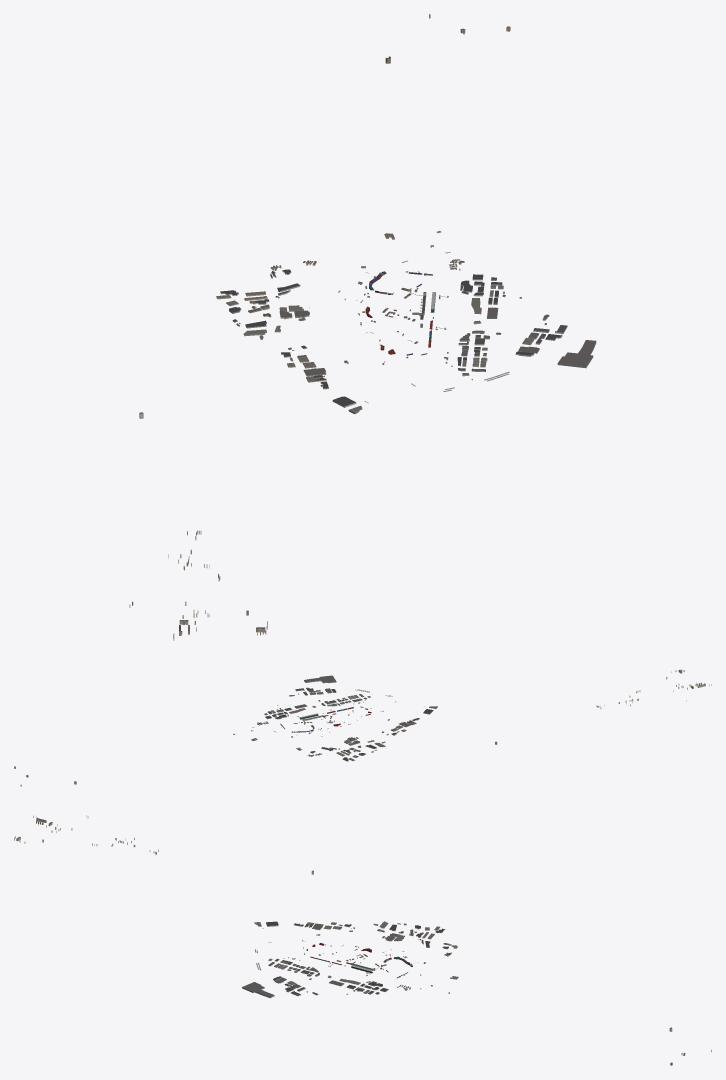
The model's file is scenery.glb.
3 views of the same model, one above another, from view 1: azimuth 30°, elevation 25°; view 2: azimuth 150°, elevation 25°; view 3: azimuth 270°, elevation 25° (orthographic). The views are drawn at different scales.
Size of the model in its own units: 7096 by 122 by 8210.
